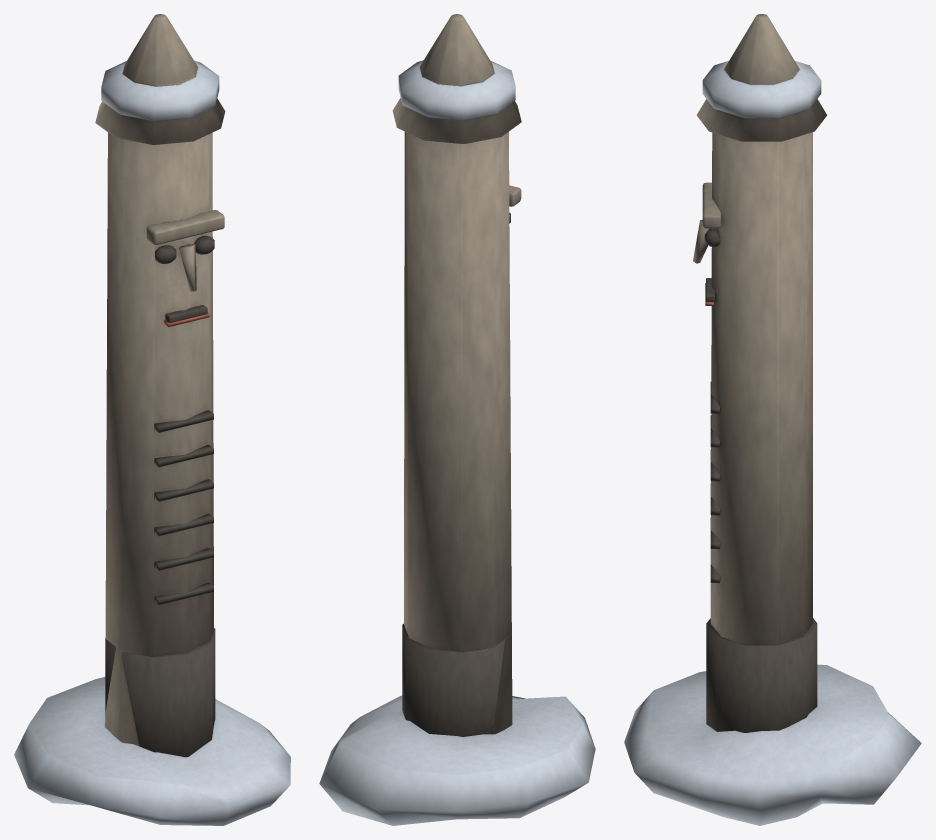
Rendered from chur_post.glb.
The picture shows the model from 3 angles, left to right: view 1: azimuth 30°, elevation 25°; view 2: azimuth 150°, elevation 25°; view 3: azimuth 270°, elevation 25°; orthographic projection.
Parts seen in each view (by area): view 1: chur_post; view 2: chur_post; view 3: chur_post.
Part boxes in pixels (box(x1,y1,x2,y2)): chur_post: box(14, 14, 290, 825); chur_post: box(319, 14, 595, 825); chur_post: box(624, 14, 921, 825).
Bounding box in the file's own units: 0.878 × 2.75 × 0.956.
Materials: 1 (1 with a texture image).
